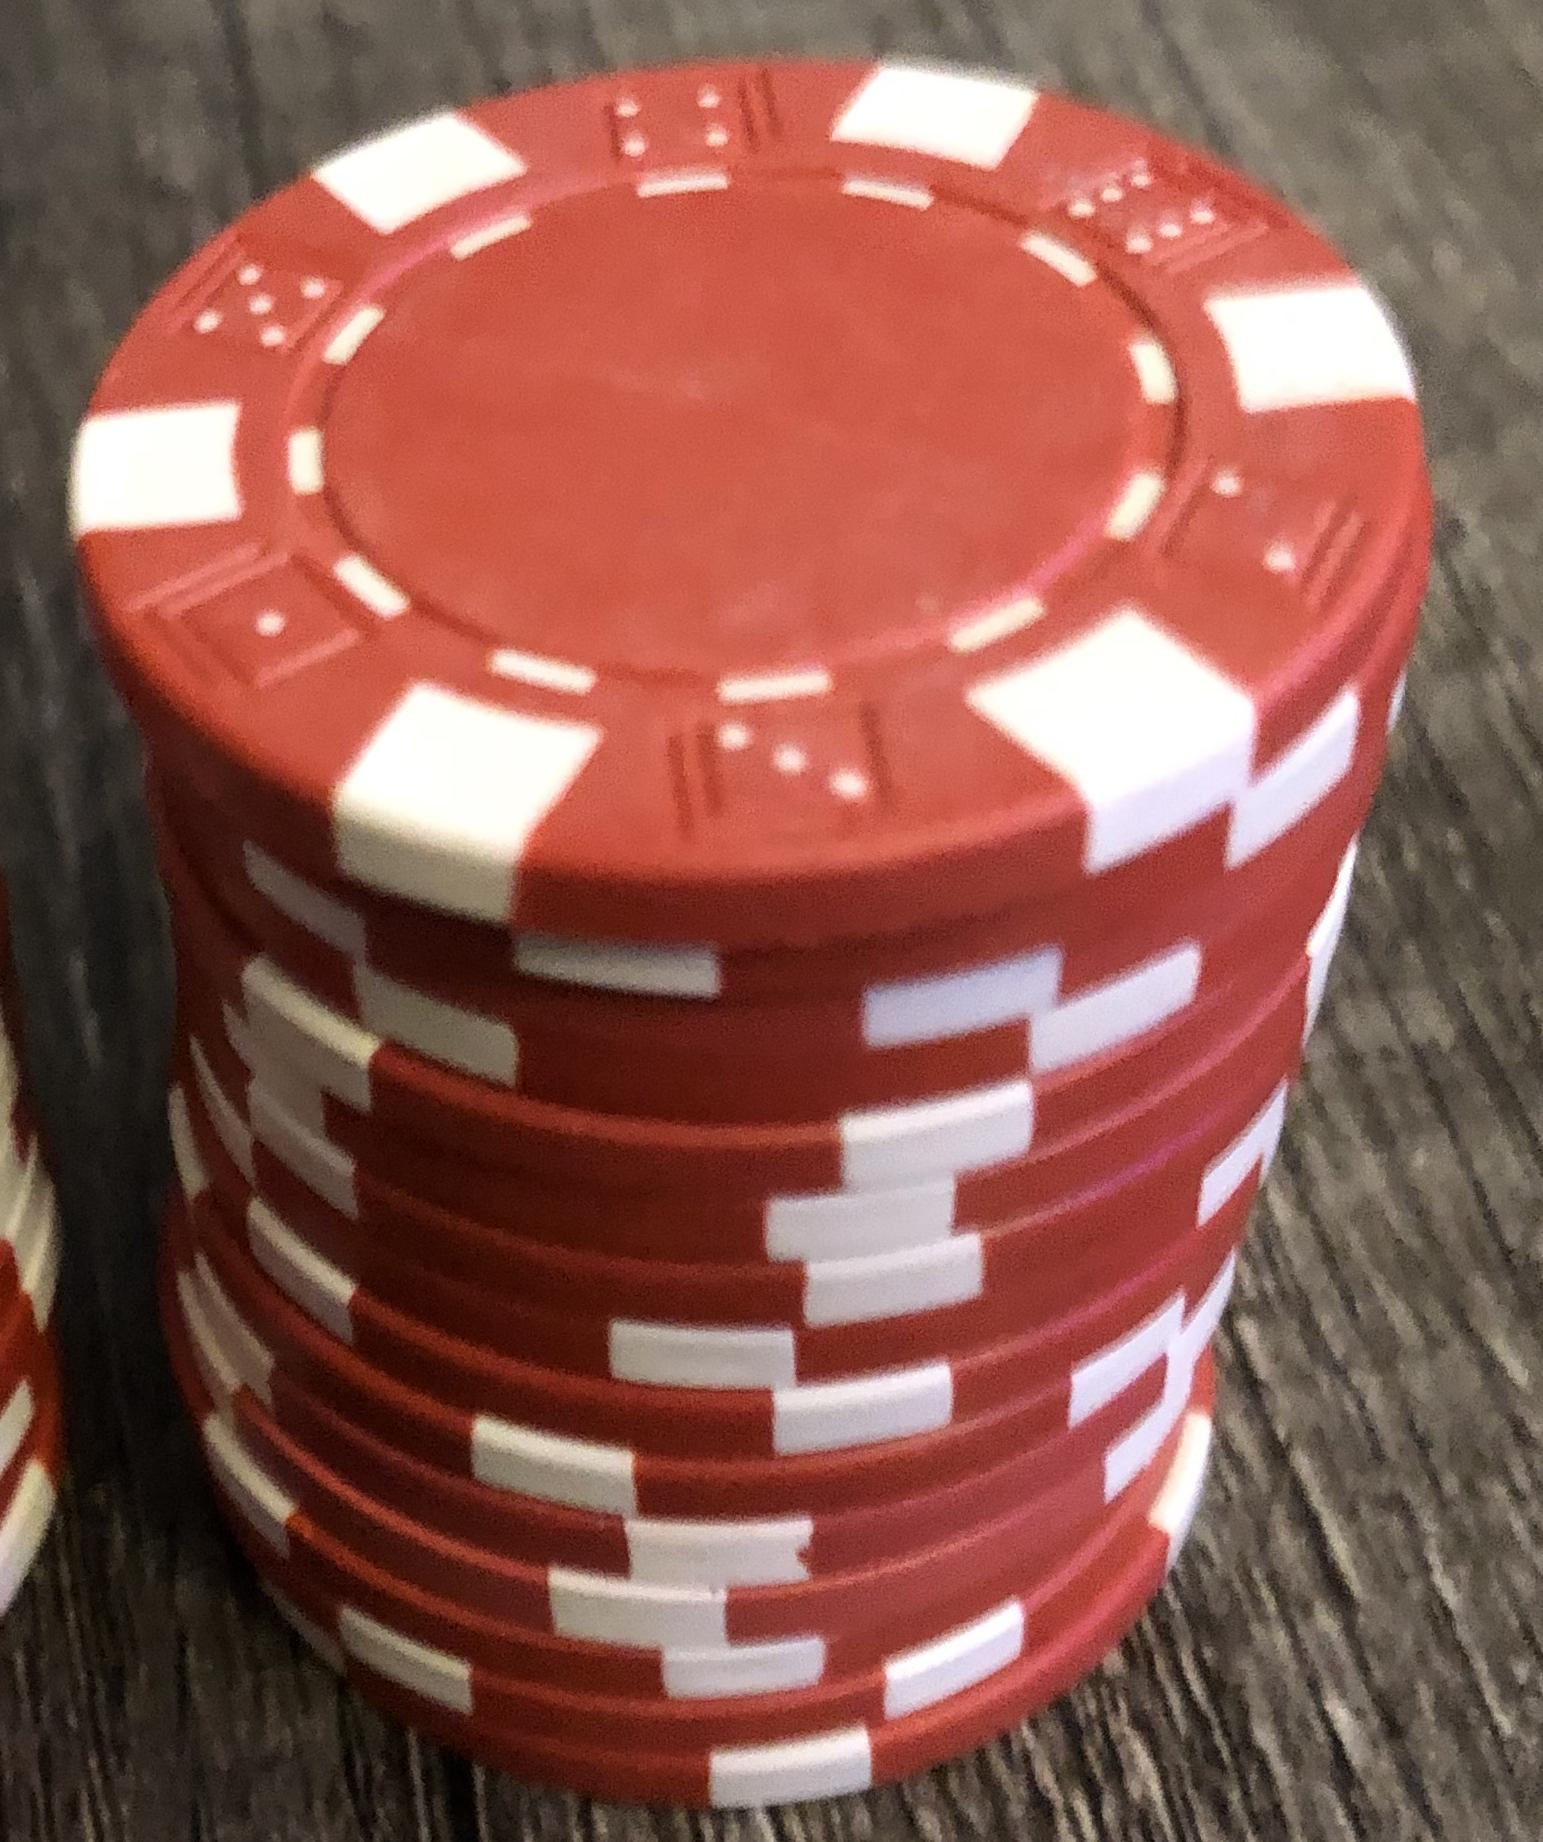Chip: (2, 2, 1543, 1842)
